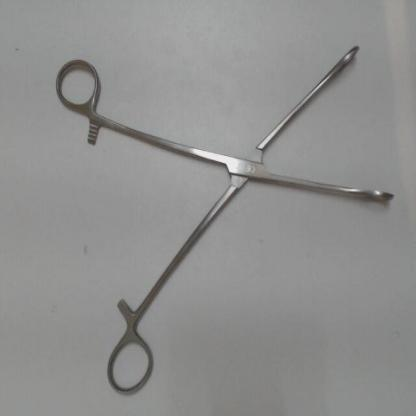Sponge Forceps: (50, 36, 401, 400)
